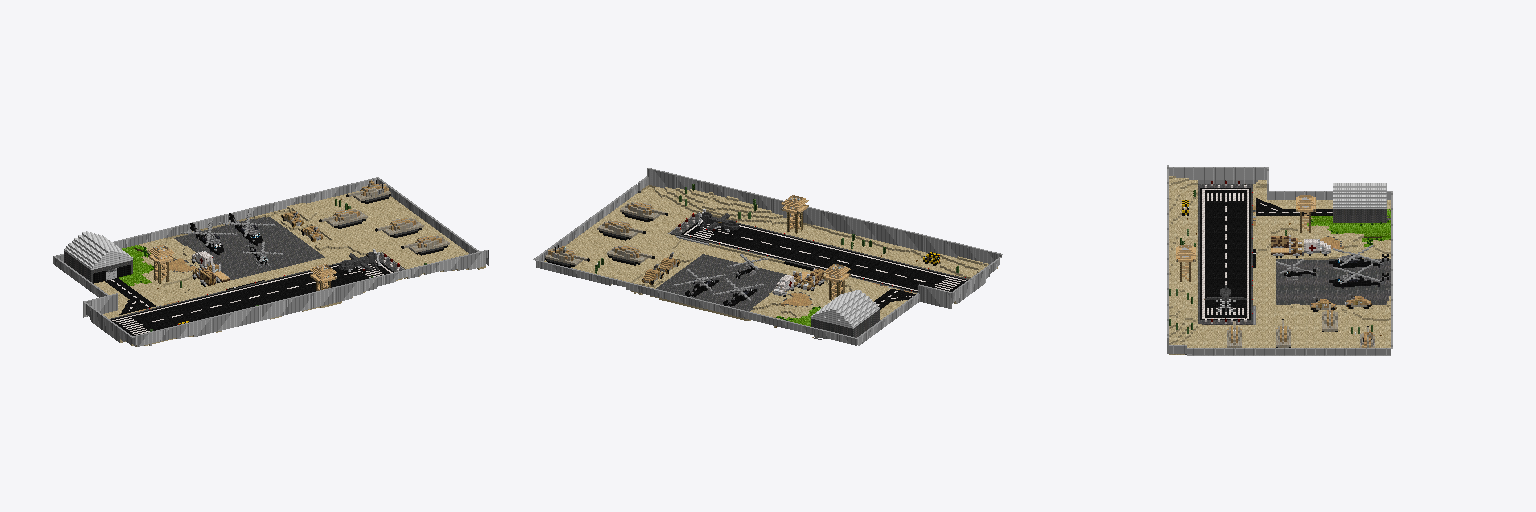
3 renders of one model, left to right at view 1: azimuth 30°, elevation 25°; view 2: azimuth 150°, elevation 25°; view 3: azimuth 270°, elevation 25°, orthographic.
Parts seen in each view (by area): view 1: test; view 2: test; view 3: test.
Part boxes in pixels (bbox=[...]): test: bbox=[53, 177, 488, 346]; test: bbox=[533, 168, 1002, 345]; test: bbox=[1167, 165, 1392, 355].
Bounding box in the file's own units: 186 × 18 × 102.
62 materials, 62 textured.